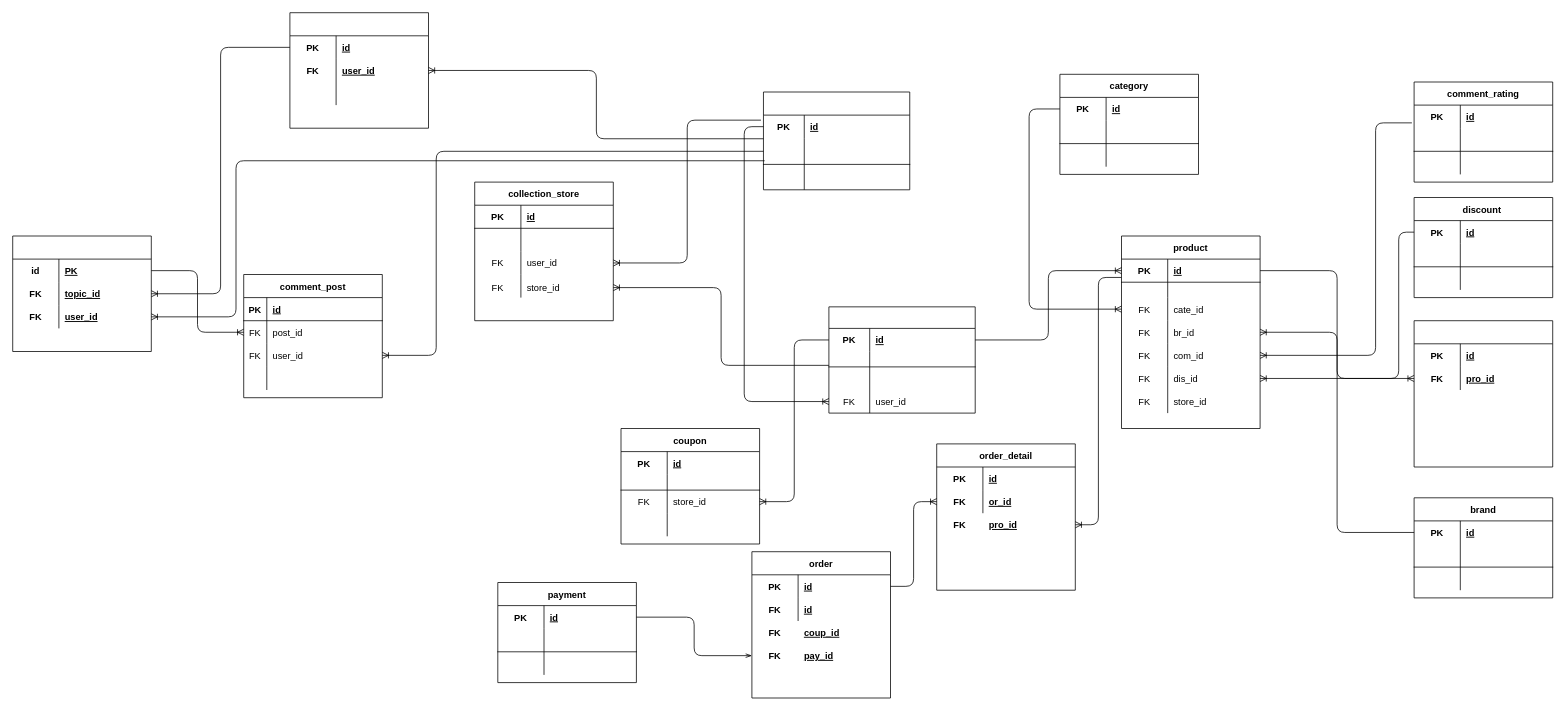
This 1565x711 diagram has some shape labels left out. The shapes that lost their labels are listed below. From the top down, each one's box as (x1, y1, x2, y2) in pixels, then its label:
(289, 12, 429, 128): topics
(763, 91, 910, 190): user
(12, 235, 151, 352): posts
(828, 306, 975, 413): store
(1413, 320, 1553, 467): attributes_product
